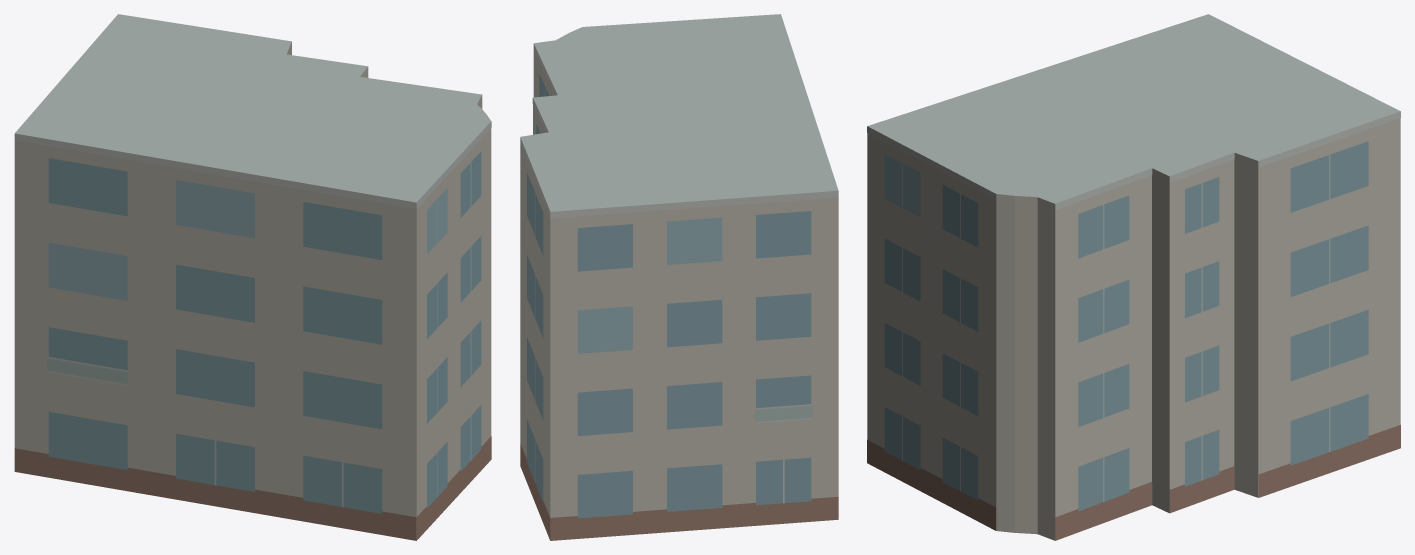
Rendered from survey-upis-32641374.glb.
3 renders of one model, left to right at view 1: azimuth 30°, elevation 25°; view 2: azimuth 150°, elevation 25°; view 3: azimuth 270°, elevation 25°, orthographic. The views are drawn at different scales.
Parts seen in each view (by area): view 1: survey-upis-32641374.tmp; view 2: survey-upis-32641374.tmp; view 3: survey-upis-32641374.tmp.
Part boxes in pixels (x1,y1,x2,y2): survey-upis-32641374.tmp: (14, 14, 491, 540); survey-upis-32641374.tmp: (520, 14, 838, 540); survey-upis-32641374.tmp: (867, 14, 1400, 540).
Bounding box in the file's own units: 14.75 × 12.2 × 17.51.
